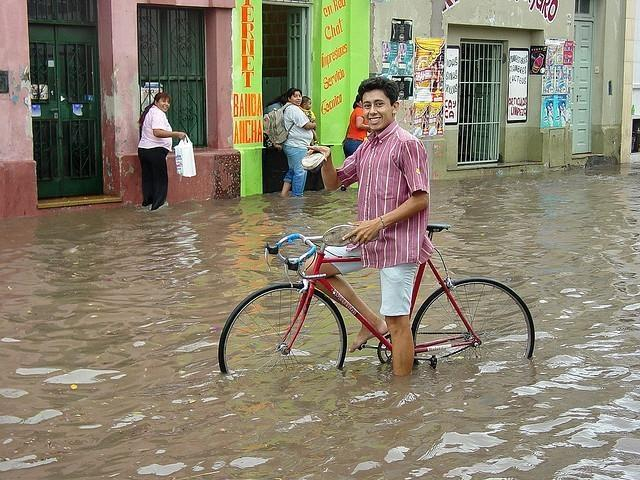bicycle: (221, 224, 538, 370)
